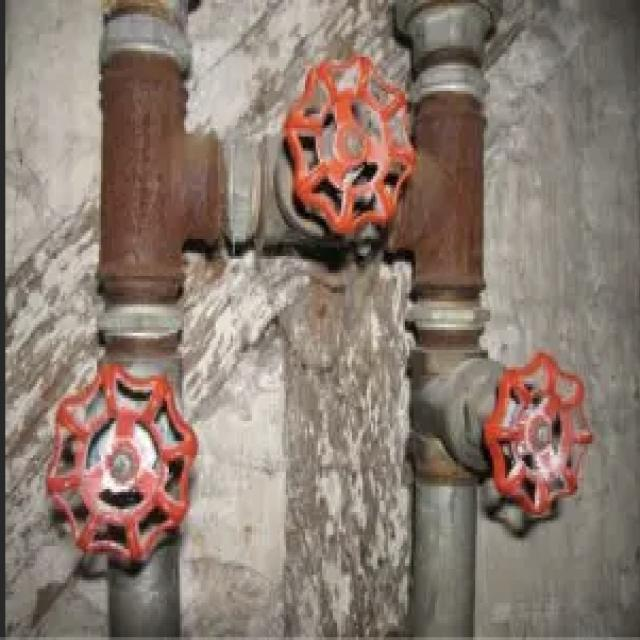Wheel Handle Valve Threaded: (409, 304, 592, 520), (226, 48, 412, 252), (48, 357, 197, 570)
